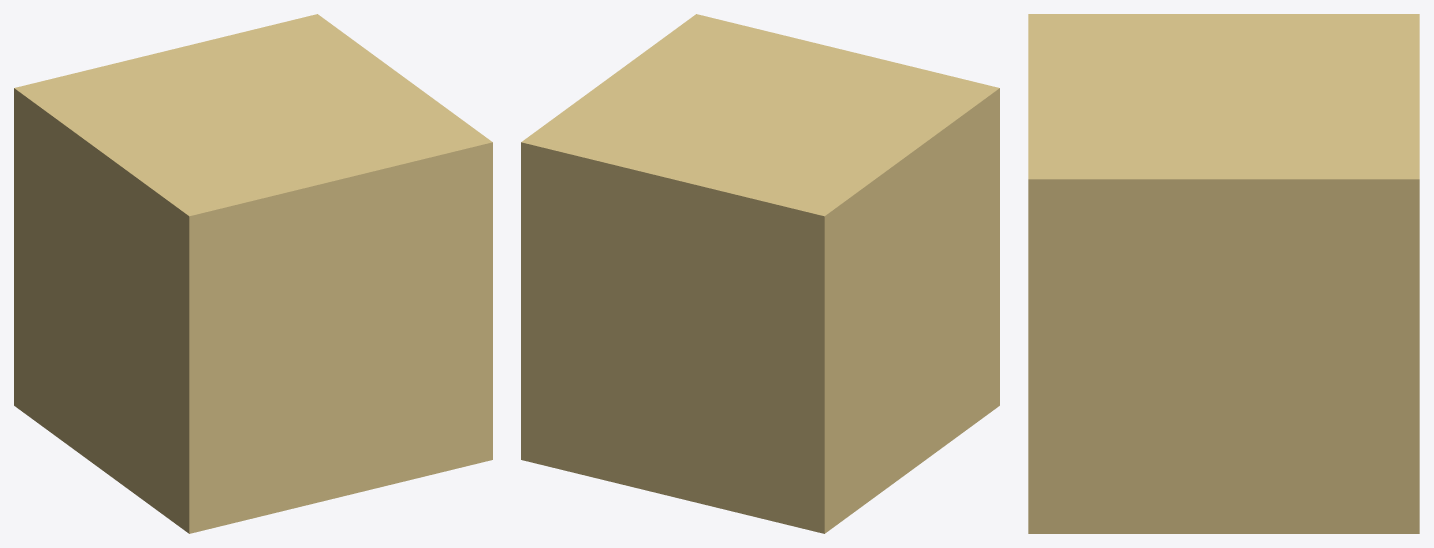
The model's file is pickup_scrap.fbx.
3 renders of one model, left to right at view 1: azimuth 30°, elevation 25°; view 2: azimuth 150°, elevation 25°; view 3: azimuth 270°, elevation 25°, orthographic. The views are drawn at different scales.
Parts seen in each view (by area): view 1: Scrap_A; view 2: Scrap_A, Scrap_C; view 3: Scrap_A, Scrap_B.
Part boxes in pixels (<box>): Scrap_A: <box>14,14,492,533</box>; Scrap_A: <box>521,14,999,533</box>; Scrap_C: <box>616,264,729,409</box>; Scrap_A: <box>1028,14,1419,533</box>; Scrap_B: <box>1188,319,1296,423</box>.
Bounding box in the file's own units: 80 × 80 × 80.
